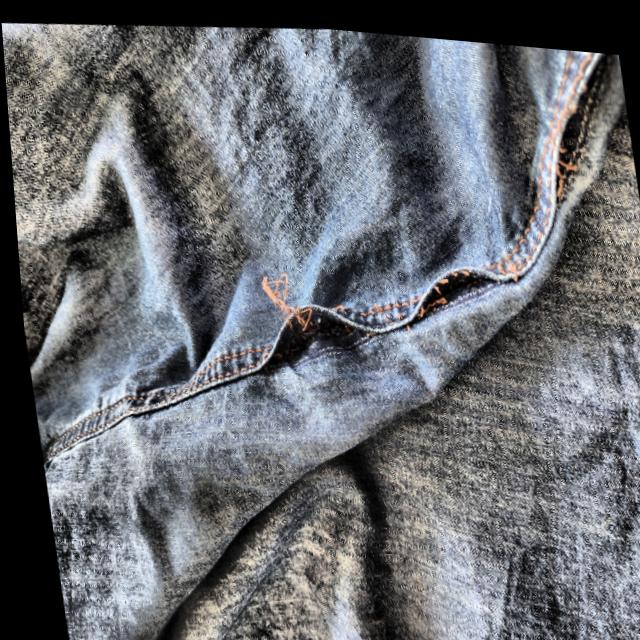seam: (531, 37, 628, 229), (391, 218, 516, 330), (250, 271, 368, 382)
